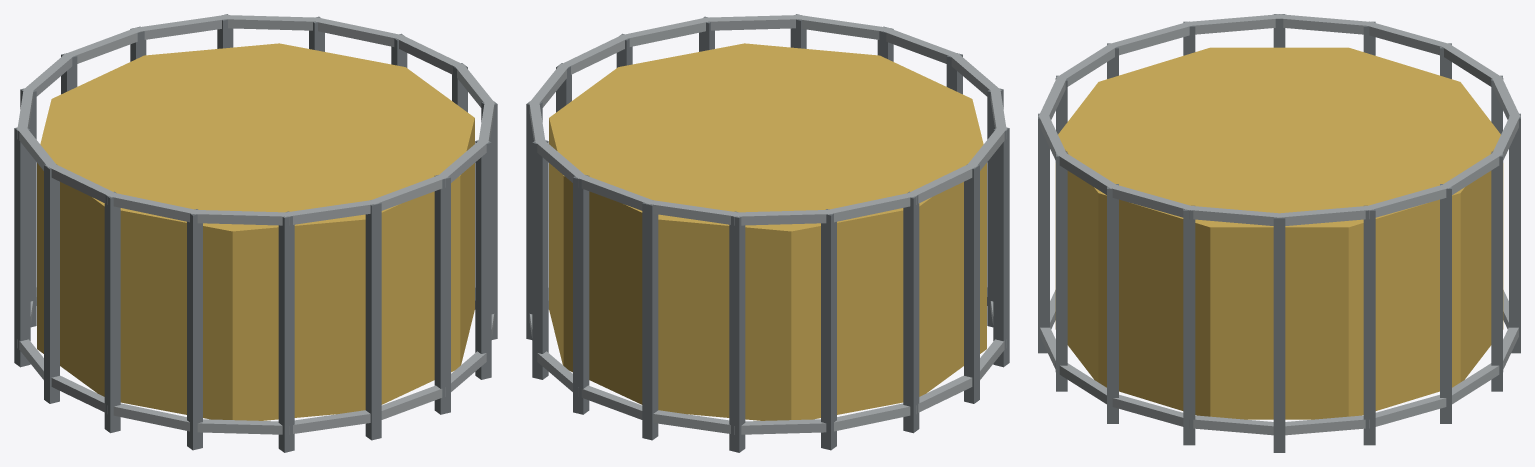
The model's file is lwf_hay_ring_feeder_v1.glb.
3 renders of one model, left to right at view 1: azimuth 30°, elevation 25°; view 2: azimuth 150°, elevation 25°; view 3: azimuth 270°, elevation 25°, orthographic.
Parts seen in each view (by area): view 1: LWF_HayRingFeeder; view 2: LWF_HayRingFeeder; view 3: LWF_HayRingFeeder.
Part boxes in pixels (<box>): LWF_HayRingFeeder: <box>14,14,497,452</box>; LWF_HayRingFeeder: <box>526,14,1009,452</box>; LWF_HayRingFeeder: <box>1038,14,1520,452</box>.
Bounding box in the file's own units: 2.05 × 1.1 × 2.05.
1 material, 1 textured.
